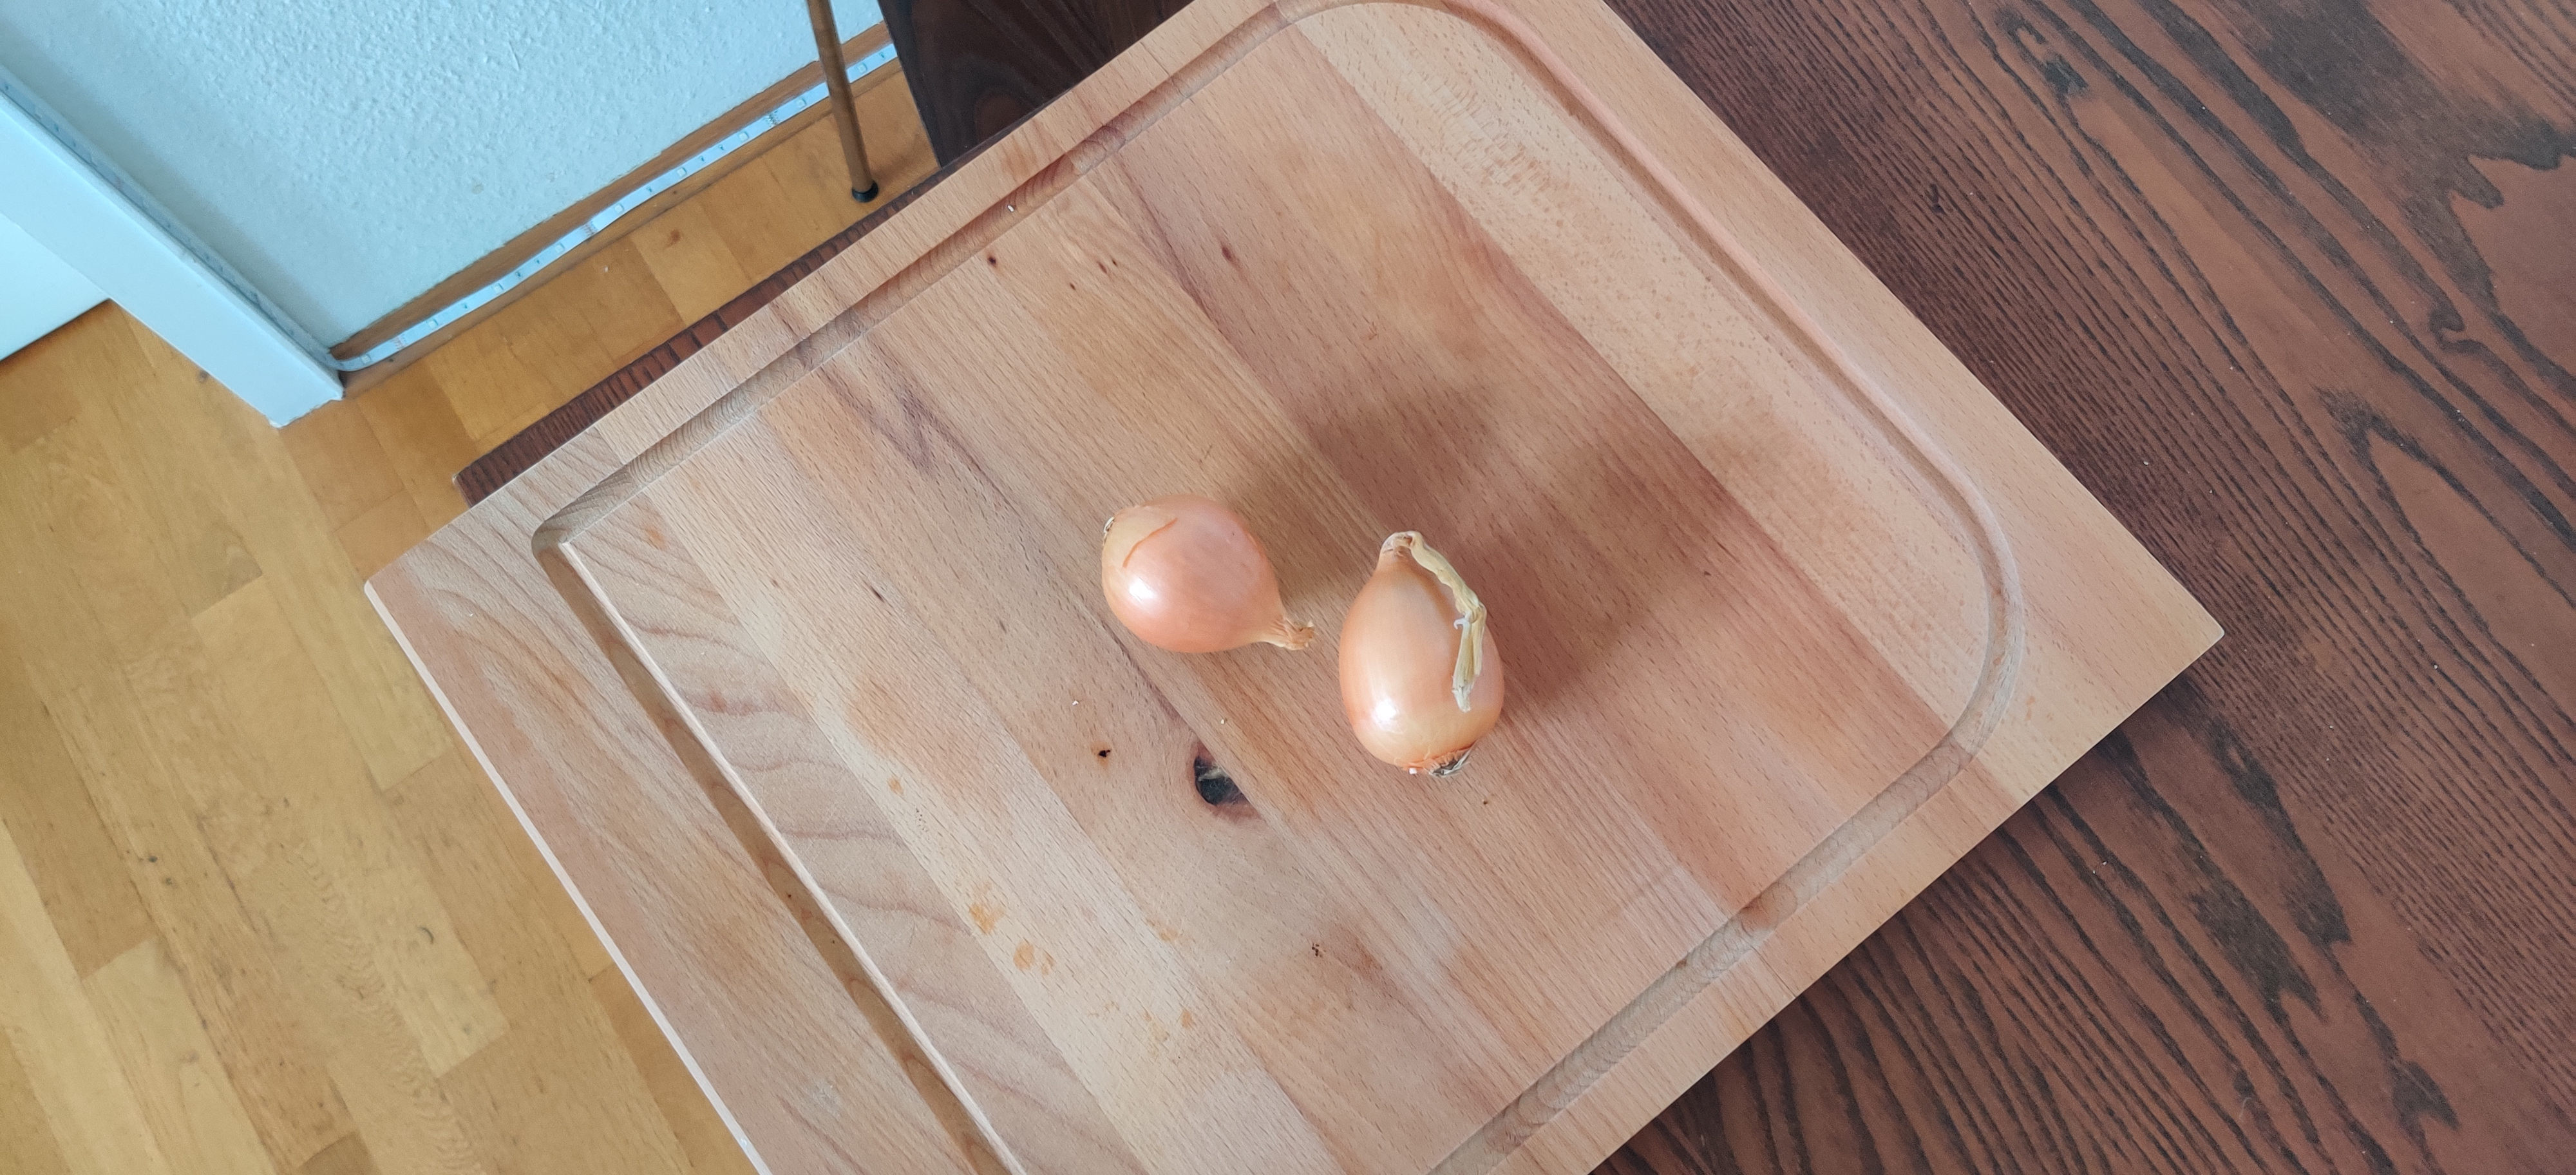Zwiebel: (1341, 529, 1506, 777), (1104, 496, 1316, 656)
